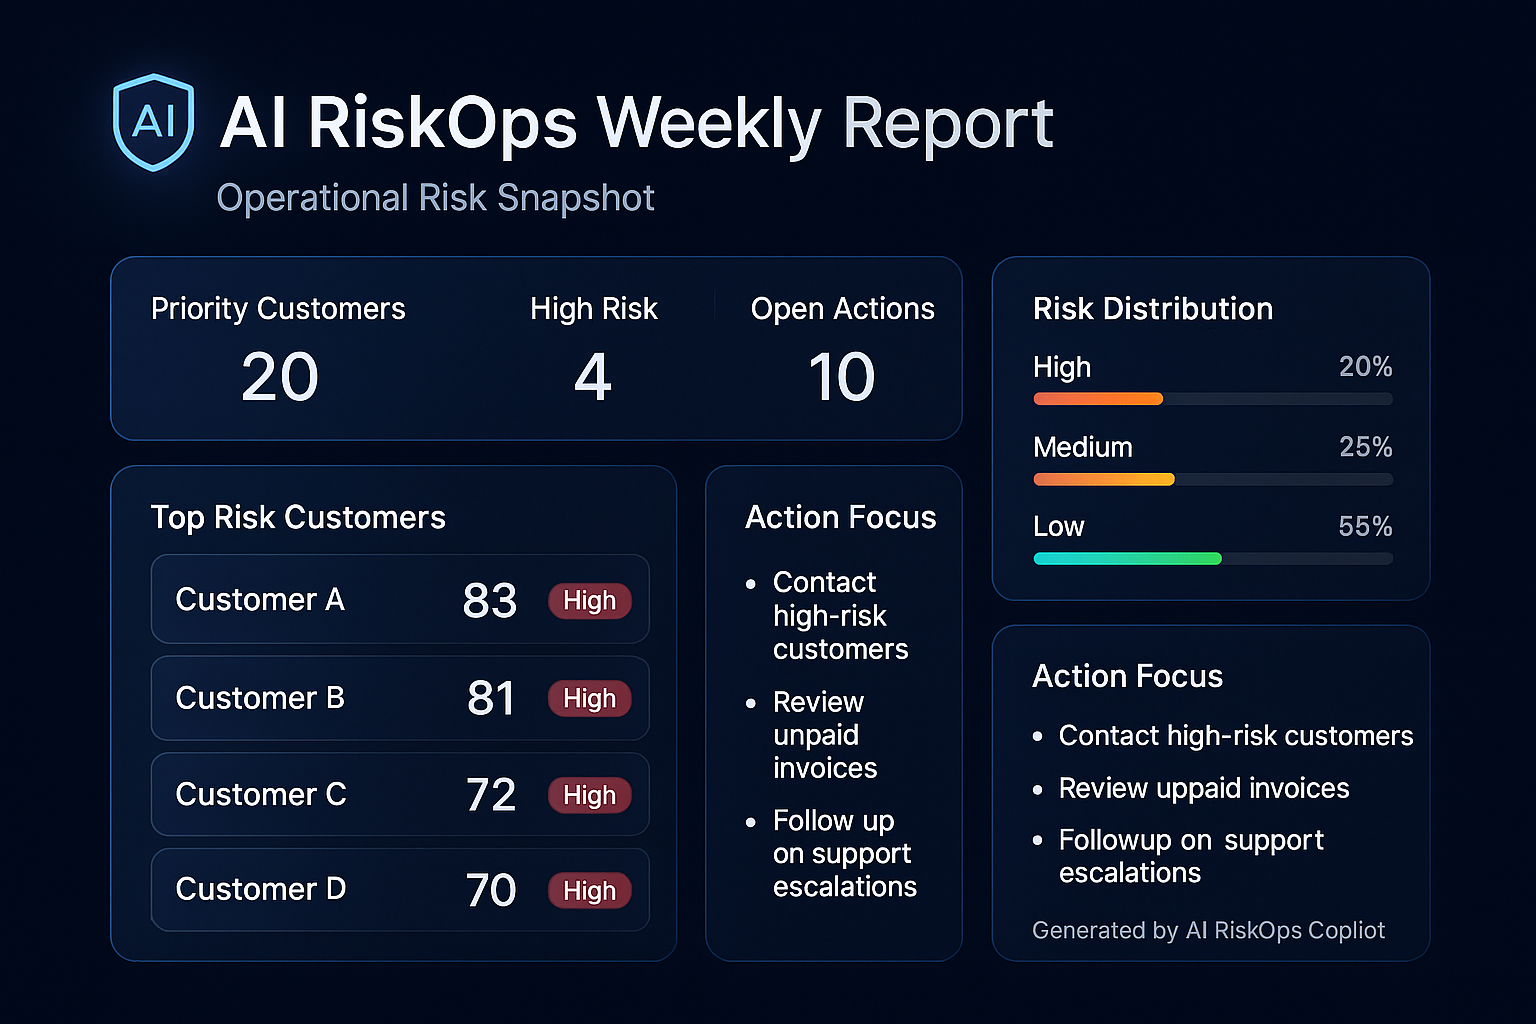

Layout of this report page (visuals, bound fields, positions):
{"tool":"powerbi","page":{"name":"Executive Overview","canvas":[1280,720],"ordinal":0},"visuals":[{"type":"textbox","box":[10,0,595,60],"z":0},{"type":"cardVisual","fields":{"Data":["_Measures.Total Customers","_Measures.High Risk Customers","_Measures.Open Actions","_Measures.Overdue Actions","_Measures.RiskOps Pressure Score"]},"box":[0,102.5,1280,111.2],"z":1000},{"type":"donutChart","title":"Risk Distribution","fields":{"Category":["Risk_Customers.risk_level"],"Y":["_Measures.Total Customers"]},"box":[0,213.8,621.2,266.2],"z":2000},{"type":"clusteredColumnChart","title":"Actions by Priority","fields":{"Category":["Action_Board.priority"],"Y":["_Measures.Total Actions"]},"box":[621.2,213.8,658.8,266.2],"z":3000},{"type":"tableEx","title":"Top Risk Customers","fields":{"Values":["Risk_Customers.Customer Alias","Risk_Customers.risk_level","Risk_Customers.risk_score","Risk_Customers.confidence","Risk_Customers.top_reasons","Risk_Customers.next_best_action","Risk_Customers.owner","Risk_Customers.Due Date Display"]},"box":[0,479.6,1280,240.6],"z":4000},{"type":"pageNavigator","box":[0,60,1280,52.5],"z":5000}]}

Visuals, with their boxes on the page's 1280x720 design canvas (x1, y1, x2, y2). These are canvas units, not pixel positions in the 1536x1024 screenshot, which may show the page scaled, cropped or inside an application window:
textbox: 10/0/605/60
cardVisual - _Measures.Total Customers x _Measures.High Risk Customers: 0/102/1280/214
"Risk Distribution" donutChart: 0/214/621/480
"Actions by Priority" clusteredColumnChart: 621/214/1280/480
"Top Risk Customers" tableEx: 0/480/1280/720
pageNavigator: 0/60/1280/112
